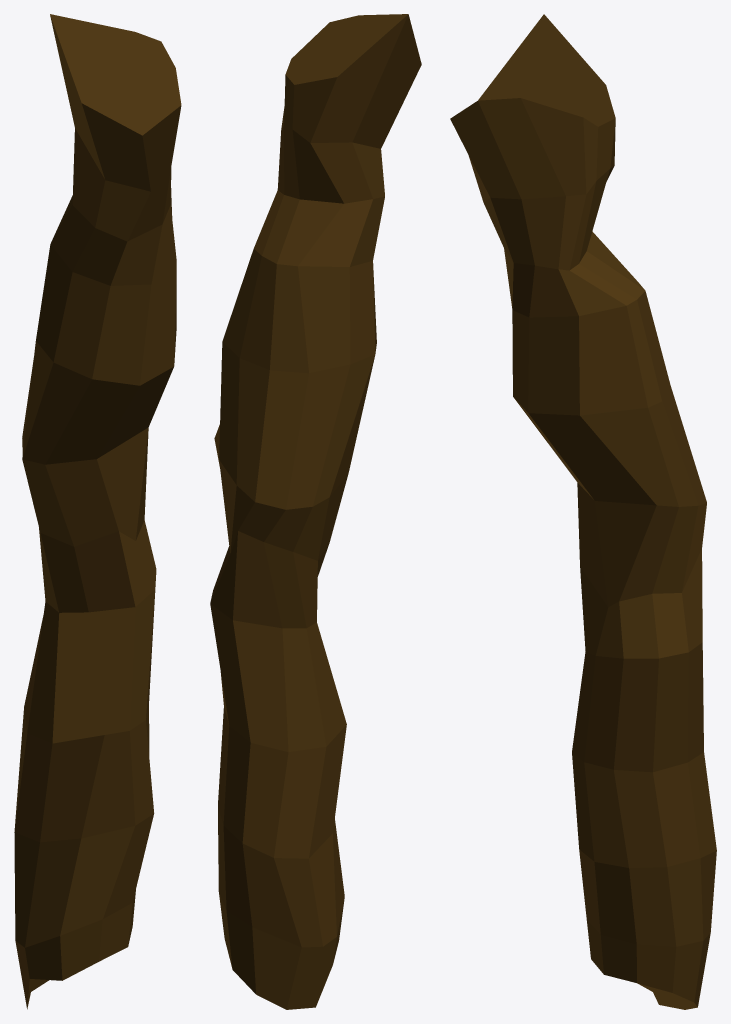
Rendered from Branch1.glb.
3 renders of one model, left to right at view 1: azimuth 30°, elevation 25°; view 2: azimuth 150°, elevation 25°; view 3: azimuth 270°, elevation 25°, orthographic. The views are drawn at different scales.
Visible parts, largest first — view 1: Branch3; view 2: Branch3; view 3: Branch3.
Boxes of the visible parts, x1,y1,x2,y2 form: Branch3: [14, 14, 181, 1009]; Branch3: [210, 14, 421, 1009]; Branch3: [450, 14, 716, 1009].
Bounding box in the file's own units: 0.1372 × 0.9076 × 0.2256.
